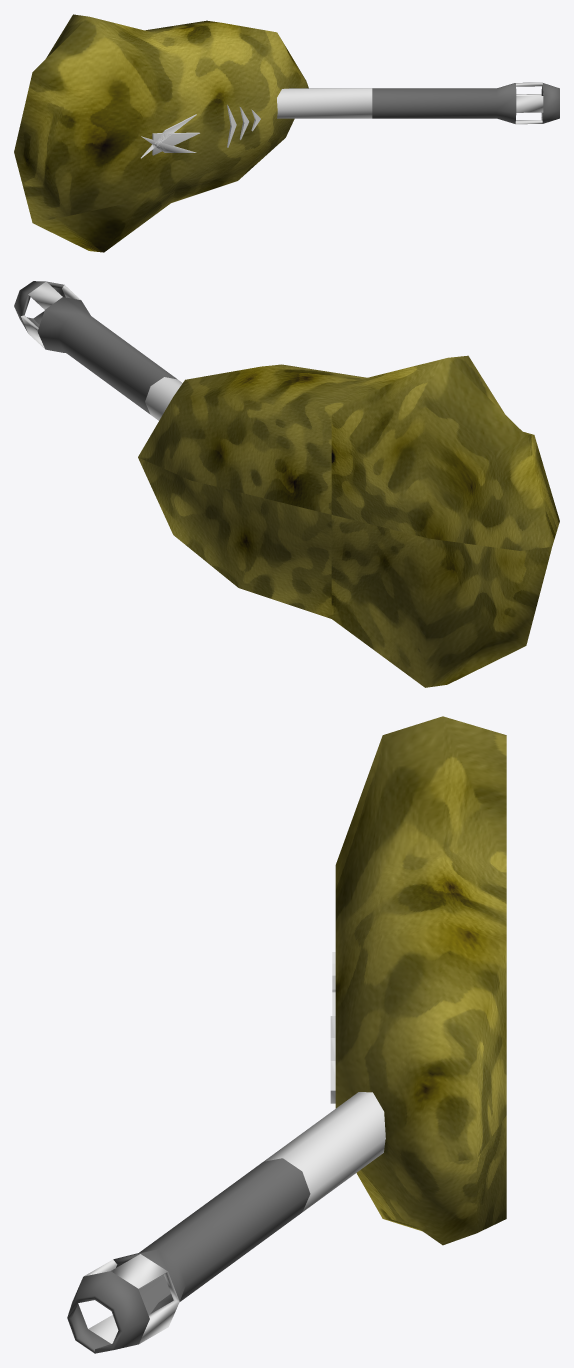
File: grenade_launcher_dead.fbx
The picture shows the model from 3 angles, top to bottom: view 1: azimuth 30°, elevation 25°; view 2: azimuth 150°, elevation 25°; view 3: azimuth 270°, elevation 25°; orthographic projection. The views are drawn at different scales.
Visible parts, largest first — view 1: Body0, Tube01_None, Color; view 2: Body0, Tube01_None, Color; view 3: Body0, Tube01_None, Color.
Part boxes in pixels (left/top/right/bottom): Body0: left=14, top=14, right=308, bottom=252; Tube01_None: left=372, top=83, right=559, bottom=123; Color: left=141, top=82, right=543, bottom=158; Body0: left=138, top=355, right=559, bottom=687; Tube01_None: left=14, top=281, right=177, bottom=414; Color: left=21, top=281, right=182, bottom=420; Body0: left=335, top=716, right=506, bottom=1245; Tube01_None: left=67, top=1158, right=310, bottom=1353; Color: left=84, top=952, right=385, bottom=1343.
Size of the model in its own units: 79.09 by 38.02 by 32.31.
Materials: 2 (2 with a texture image).
